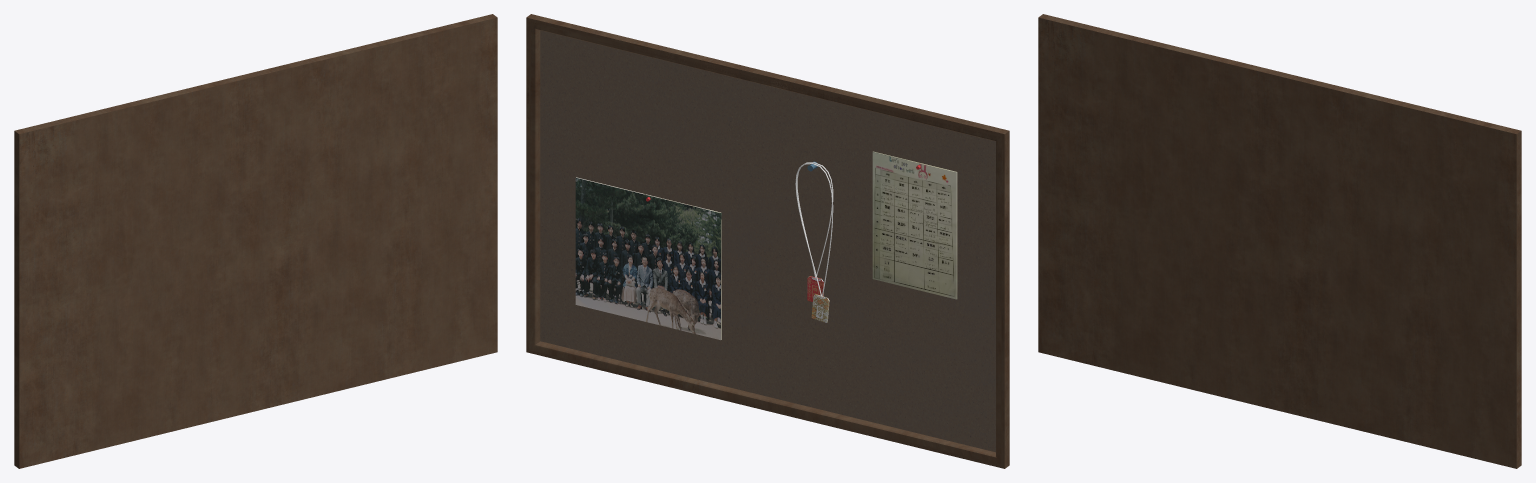
File: corcBoard.gltf
The picture shows the model from 3 angles, left to right: view 1: azimuth 30°, elevation 25°; view 2: azimuth 150°, elevation 25°; view 3: azimuth 330°, elevation 25°; orthographic projection.
Visible parts, largest first — view 1: cork_board; view 2: cork_board; view 3: cork_board.
Part boxes in pixels (x1,y1,x2,y2): cork_board: (14, 14, 497, 468); cork_board: (526, 14, 1009, 468); cork_board: (1038, 14, 1521, 468).
Bounding box in the file's own units: 0.721 × 0.482 × 0.0142.
1 material, 1 textured.
